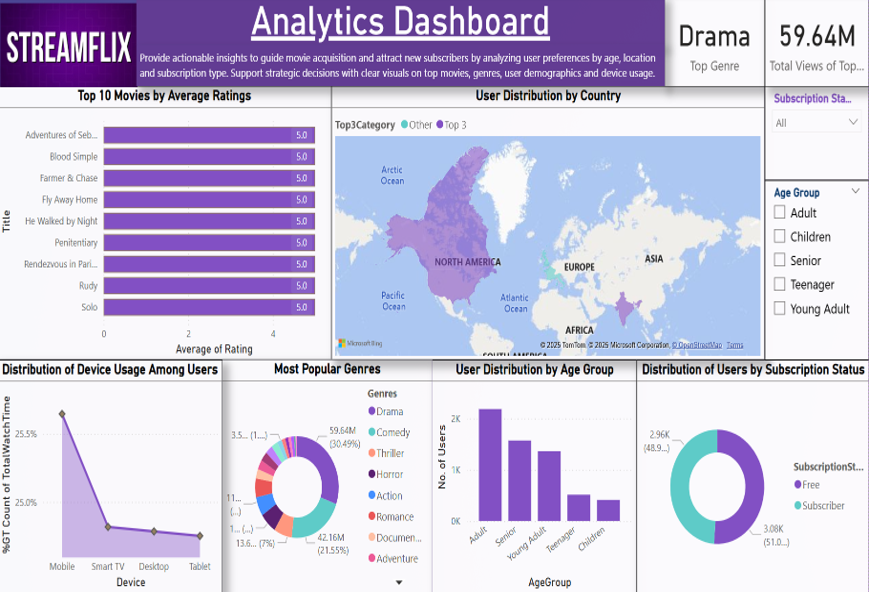

Layout of this report page (visuals, bound fields, positions):
{"tool":"powerbi","page":{"name":"Summary","canvas":[1280,720],"ordinal":0},"visuals":[{"type":"barChart","title":"Top 10 Movies by Average Ratings","fields":{"Category":["movies_cleaned.Title"],"Y":["Avg(Cleaned_Rating_Dataset.Rating)"]},"box":[0,107.8,491.3,330.2],"z":0},{"type":"donutChart","title":"Most Popular Genres","fields":{"Category":["movies_genere.Genres"],"Y":["Sum(movies_genere.Views)"]},"box":[331.3,437.5,308.1,280.8],"z":1000},{"type":"clusteredColumnChart","title":"User Distribution by Age Group","fields":{"Category":["Users_cleaned.AgeGroup"],"Y":["CountNonNull(Users_cleaned.UserID)"]},"box":[639.4,437.5,299.7,280.8],"z":2000},{"type":"donutChart","title":" Distribution of Users by Subscription Status","fields":{"Category":["Users_cleaned.SubscriptionStatus"],"Y":["CountNonNull(Users_cleaned.UserID)"]},"box":[939.1,437.5,341.8,280.8],"z":3000},{"type":"filledMap","title":"User Distribution by Country","fields":{"Category":["CountrySummary.Country"],"Series":["CountrySummary.Top3Category"]},"box":[491.3,107.8,636.1,330.2],"z":4000},{"type":"lineChart","title":"Distribution of Device Usage Among Users","fields":{"Category":["Users_cleaned.Device"],"Y":["Divide(CountNonNull(Users_cleaned.TotalWatchTime), ScopedEval(CountNonNull(Users_cleaned.TotalWatchTime), []))"]},"box":[0,437.5,331.3,280.8],"z":5000},{"type":"image","box":[0,0,211.4,115.7],"z":6000},{"type":"card","fields":{"Values":["movies_genere.Top Genre by Adjusted Views"]},"box":[980.3,0,147.2,107.8],"z":7000},{"type":"slicer","fields":{"Values":["Users_cleaned.SubscriptionStatus","Users_cleaned.Country"]},"box":[1127.4,107.8,153,113.6],"z":8000},{"type":"slicer","fields":{"Values":["Users_cleaned.AgeGroup"]},"box":[1127.4,221.3,153,216.7],"z":9000},{"type":"card","fields":{"Values":["Sum(movies_genere.Views)"]},"box":[1127.4,0,153,107.8],"z":10000},{"type":"shape","title":"Analytics Dashboard","box":[205.1,0,775,57.8],"z":11000},{"type":"textbox","box":[205.1,57.8,775,49.4],"z":12000}]}

Visuals, with their boxes on the page's 1280x720 design canvas (x1, y1, x2, y2). These are canvas units, not pixel positions in the 869x592 screenshot, which may show the page scaled, cropped or inside an application window:
"Top 10 Movies by Average Ratings" barChart: [x1=0, y1=108, x2=491, y2=438]
"Most Popular Genres" donutChart: [x1=331, y1=438, x2=639, y2=718]
"User Distribution by Age Group" clusteredColumnChart: [x1=639, y1=438, x2=939, y2=718]
" Distribution of Users by Subscription Status" donutChart: [x1=939, y1=438, x2=1281, y2=718]
"User Distribution by Country" filledMap: [x1=491, y1=108, x2=1127, y2=438]
"Distribution of Device Usage Among Users" lineChart: [x1=0, y1=438, x2=331, y2=718]
image: [x1=0, y1=0, x2=211, y2=116]
card - movies_genere.Top Genre by Adjusted Views: [x1=980, y1=0, x2=1128, y2=108]
slicer - Users_cleaned.SubscriptionStatus x Users_cleaned.Country: [x1=1127, y1=108, x2=1280, y2=221]
slicer - Users_cleaned.AgeGroup: [x1=1127, y1=221, x2=1280, y2=438]
card - Sum(movies_genere.Views): [x1=1127, y1=0, x2=1280, y2=108]
"Analytics Dashboard" shape: [x1=205, y1=0, x2=980, y2=58]
textbox: [x1=205, y1=58, x2=980, y2=107]
